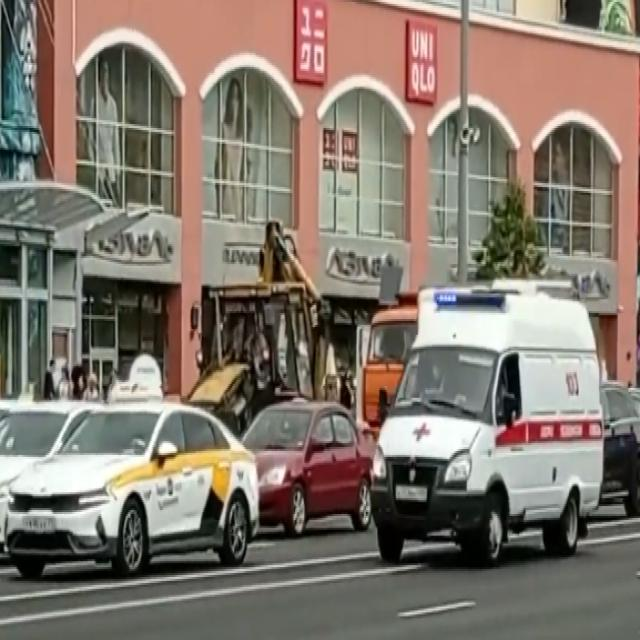ambulance: (376, 280, 607, 567)
non emergency car: (6, 404, 261, 581), (247, 396, 375, 538)
